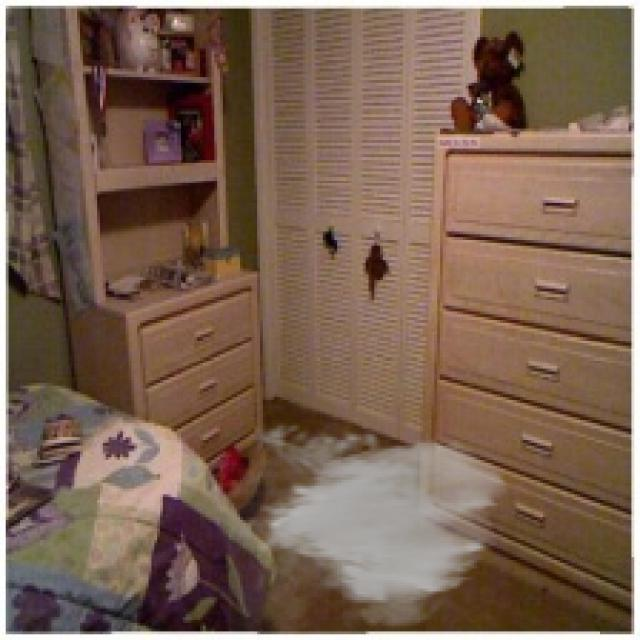smoke: (228, 417, 512, 634)
